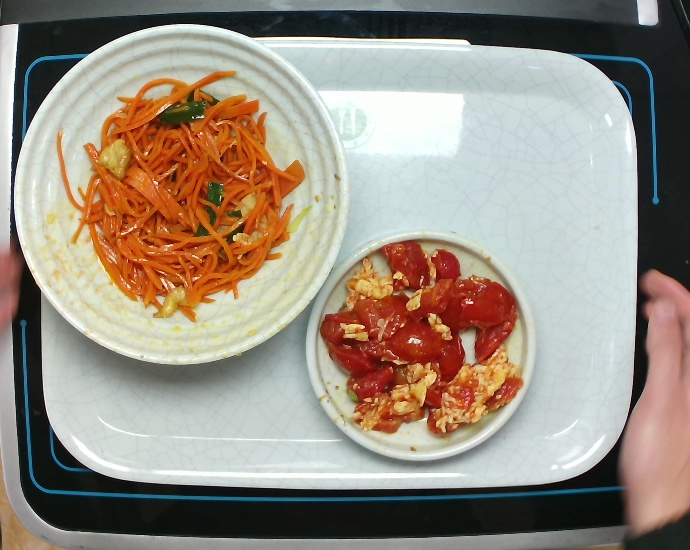JYsf-Da_Tang_Wan: (11, 18, 348, 369)
JYsf-Xiao_Yuan_Pan: (302, 223, 544, 466)
